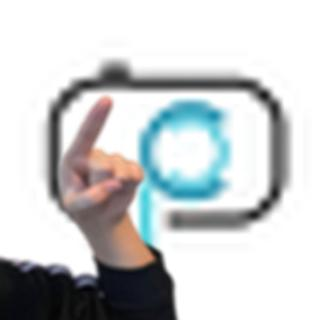IRRITATED: (54, 93, 147, 230)
